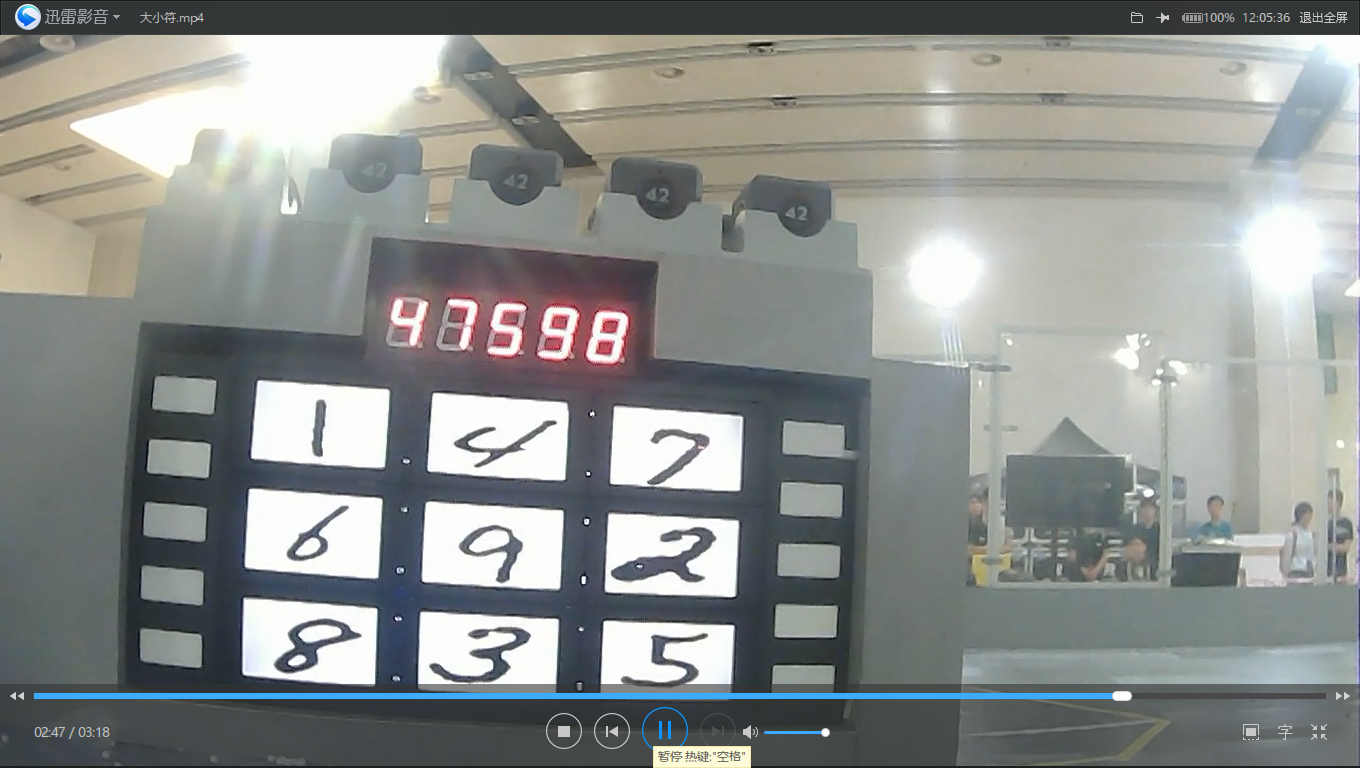box: (313, 128, 432, 211), (198, 126, 296, 208), (469, 144, 565, 224), (729, 177, 839, 243), (605, 158, 711, 224)
